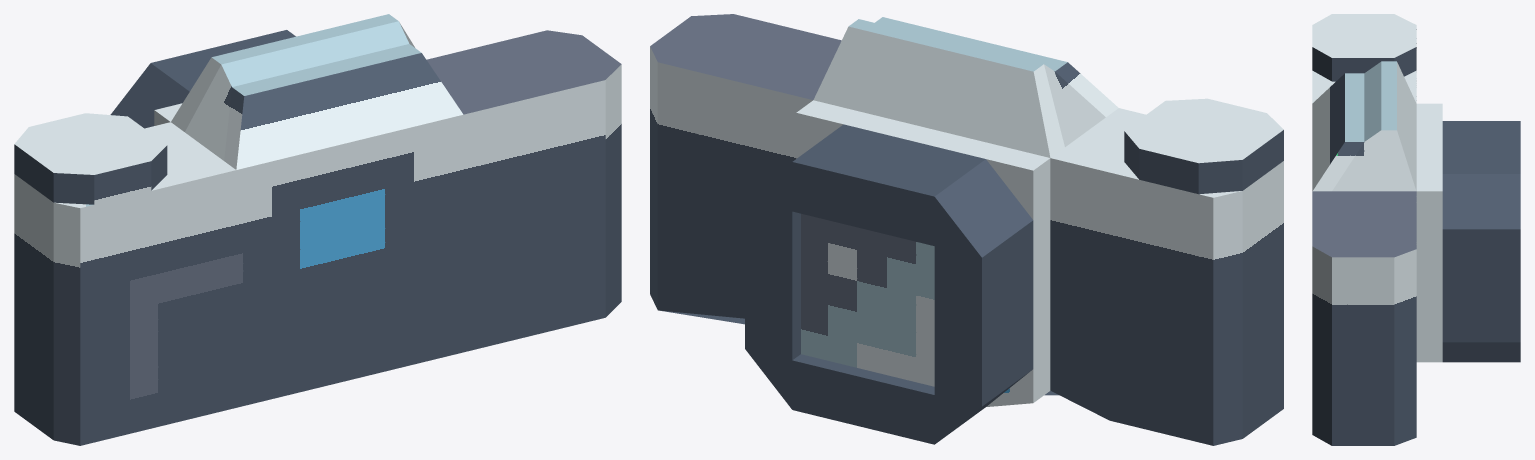
File: camera.fbx
3 views of the same model, side by side, from view 1: azimuth 30°, elevation 25°; view 2: azimuth 150°, elevation 25°; view 3: azimuth 270°, elevation 25° (orthographic). The views are drawn at different scales.
Parts seen in each view (by area): view 1: cuboid; view 2: cuboid; view 3: cuboid.
Boxes of the visible parts, x1=… form: cuboid: x1=14, y1=14, x2=621, y2=445; cuboid: x1=650, y1=14, x2=1283, y2=445; cuboid: x1=1312, y1=14, x2=1520, y2=445.
Bounding box in the file's own units: 125 × 64.06 × 50.
1 material, 1 textured.
